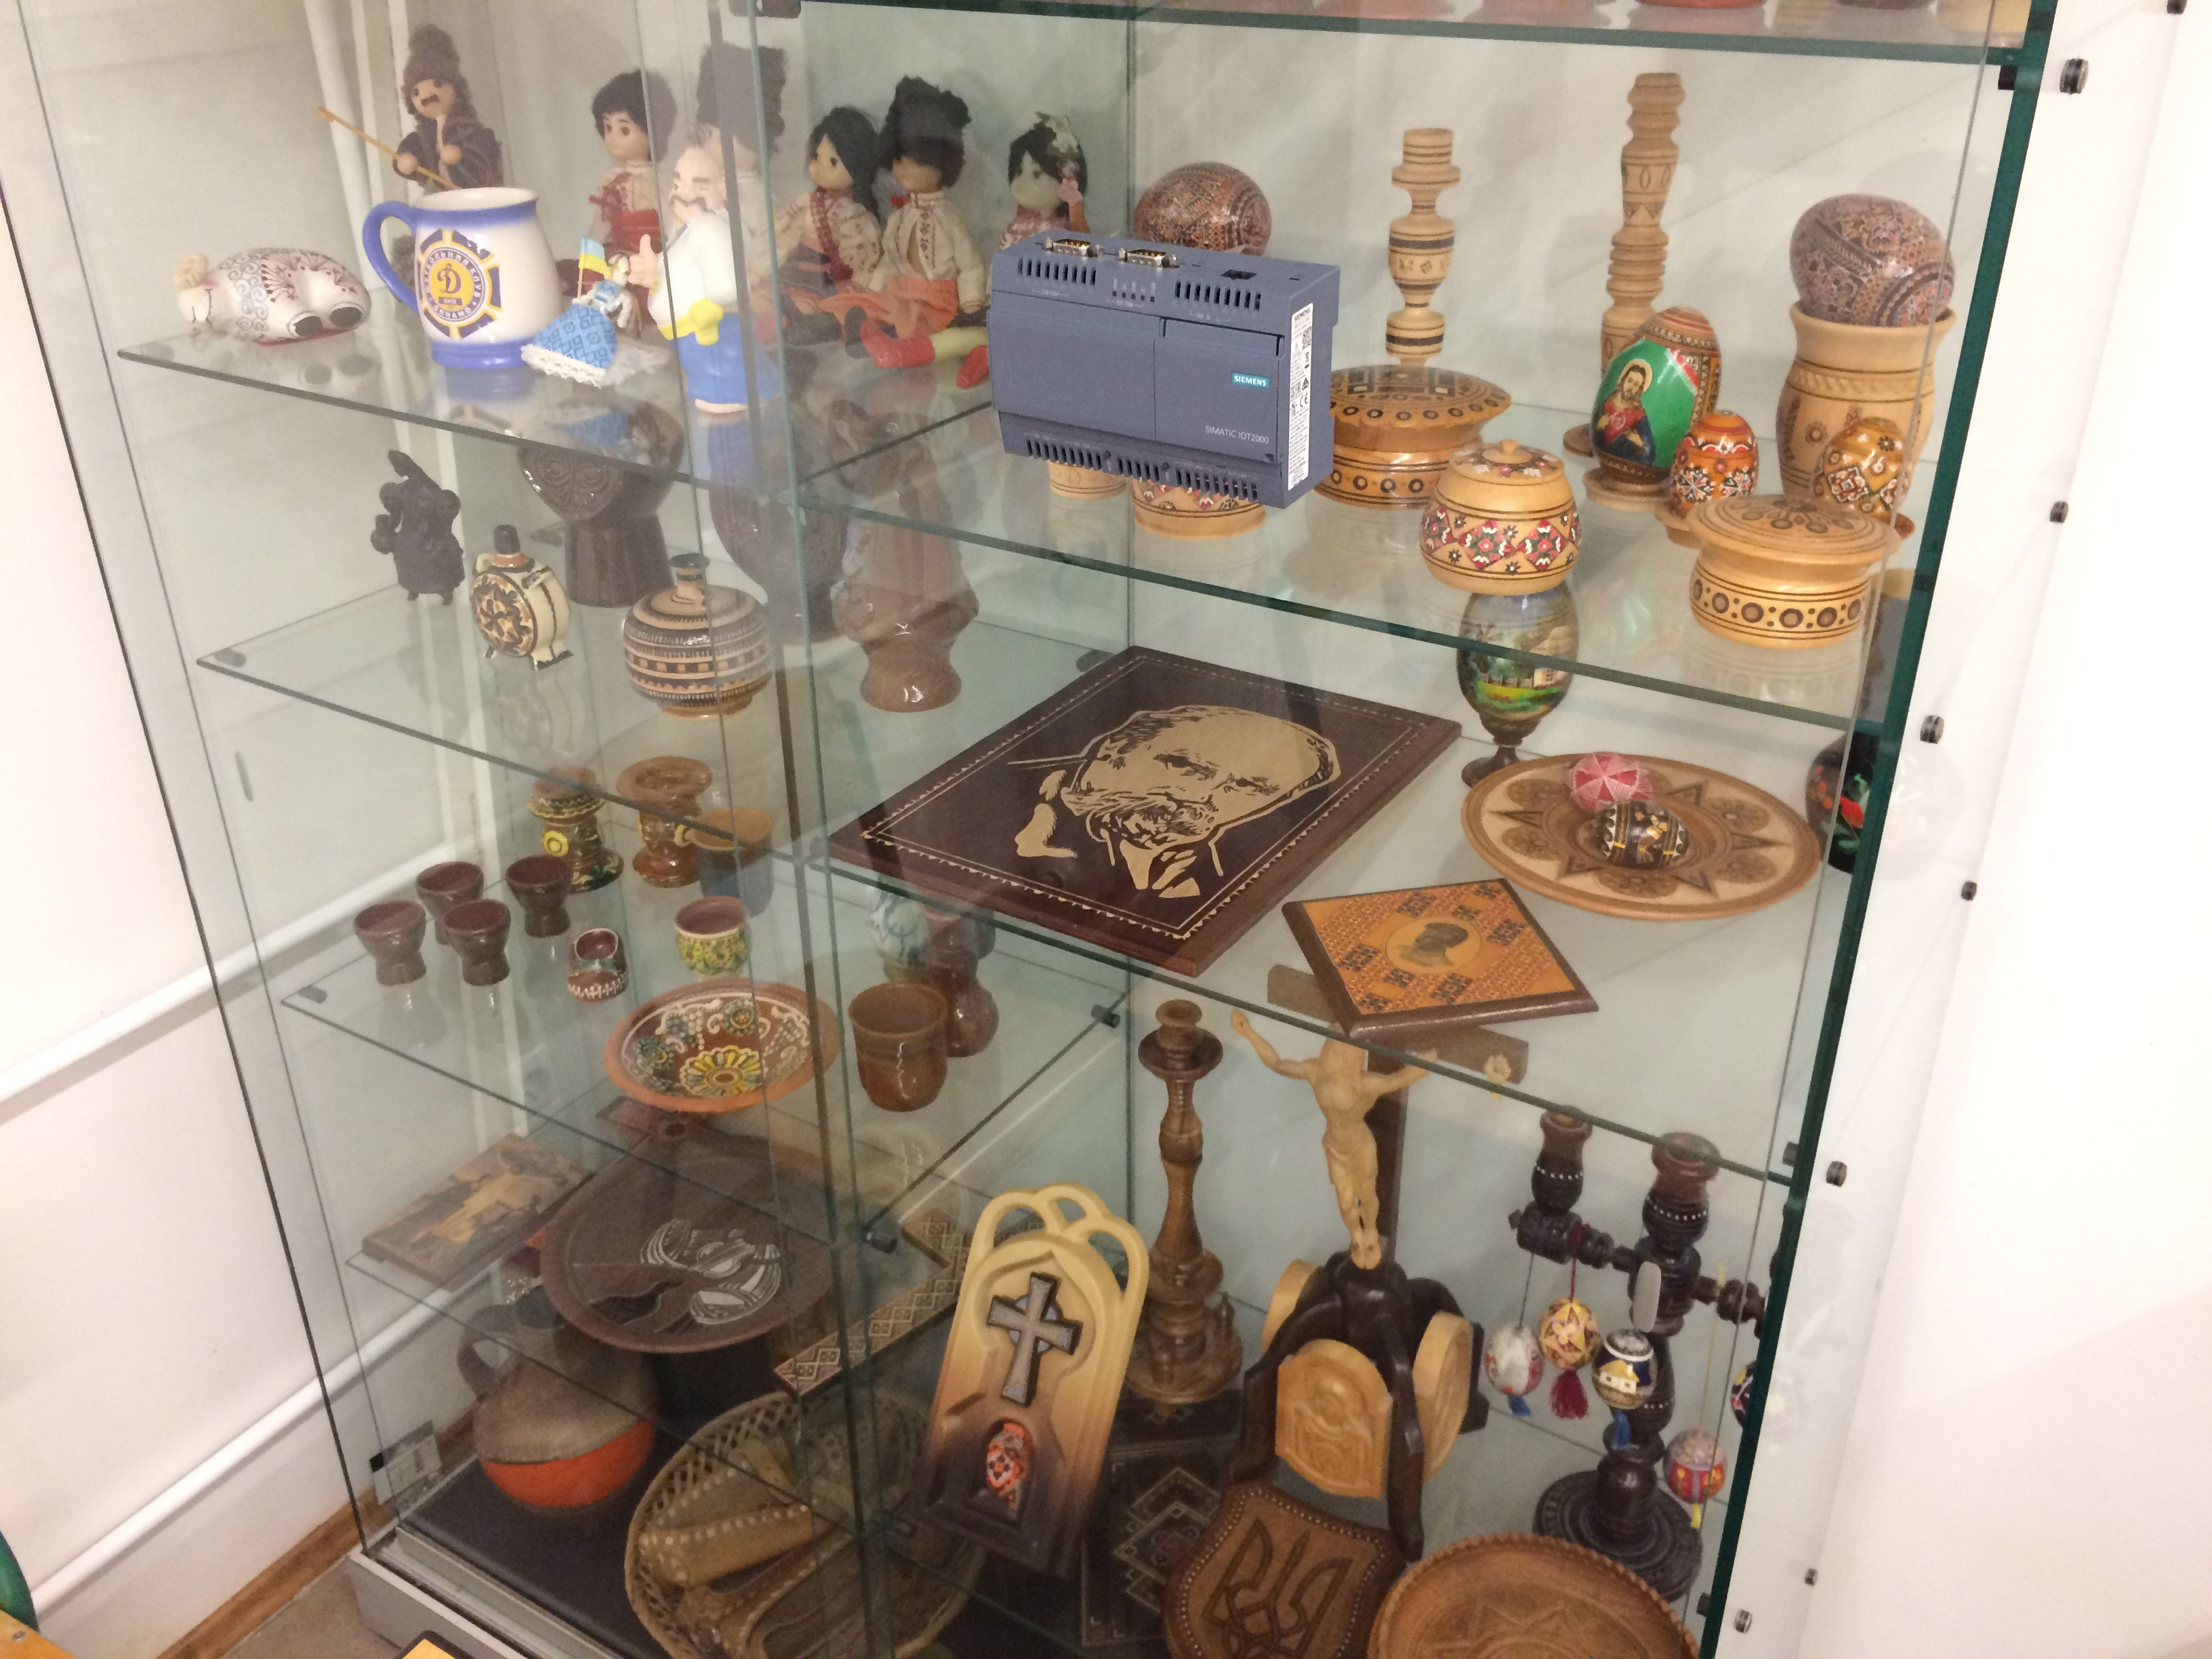iot2000: (984, 225, 1345, 512)
